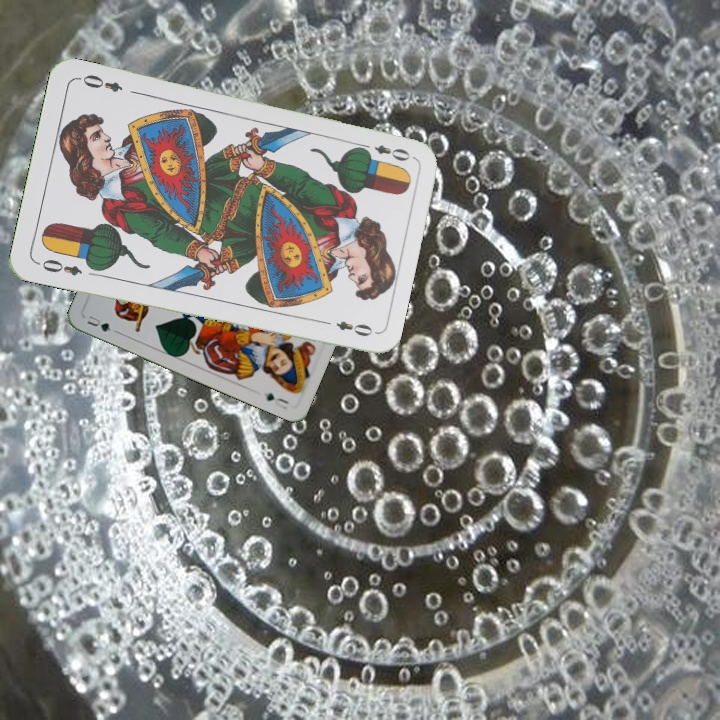EO: (355, 139, 413, 164), (33, 255, 85, 279)
GU: (83, 311, 120, 335)
